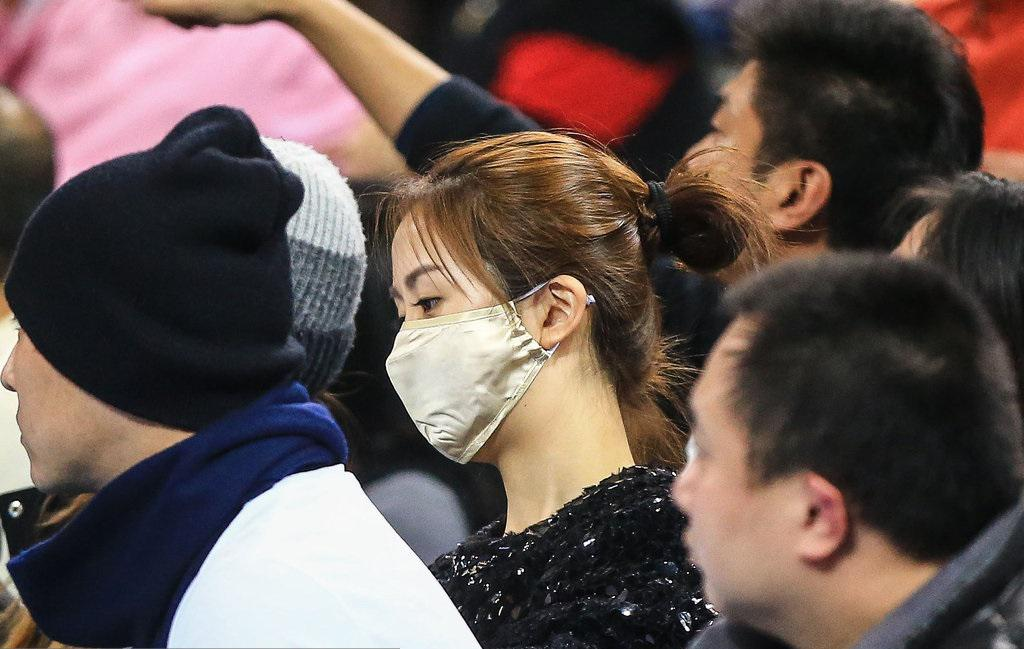NONE: (677, 415, 836, 618), (667, 77, 806, 274), (1, 290, 129, 492)
OK: (378, 258, 571, 451)
